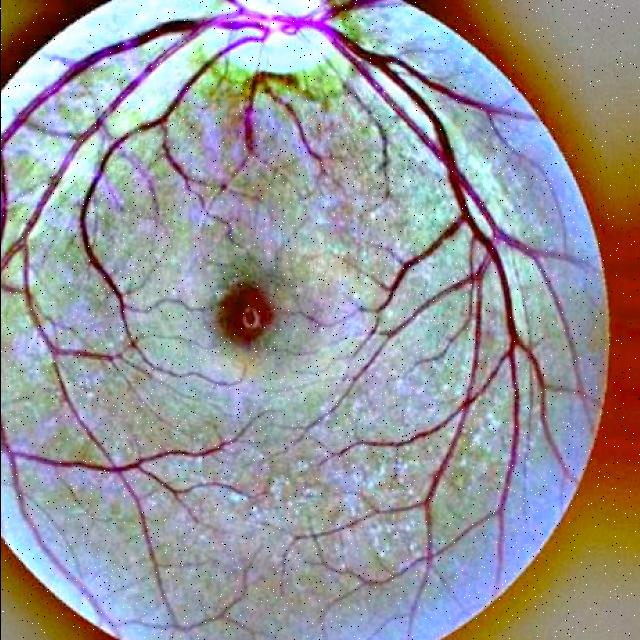Macula: (220, 285, 274, 345)
Nerves: (0, 0, 546, 499), (0, 33, 151, 248)
Optic Disk: (220, 0, 339, 75)
